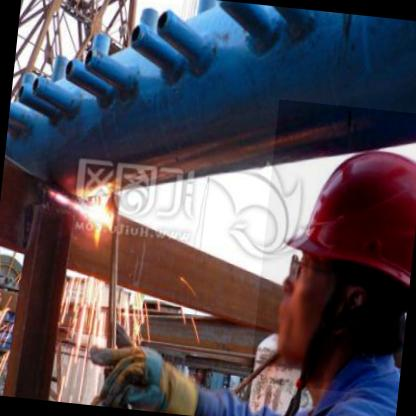helmet: (249, 99, 416, 397)
